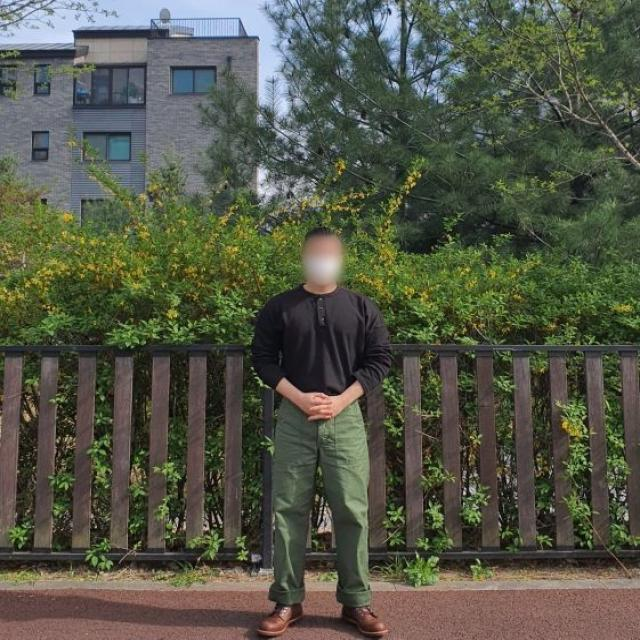cottonpants: (270, 394, 372, 609)
shirt: (249, 281, 392, 396)
